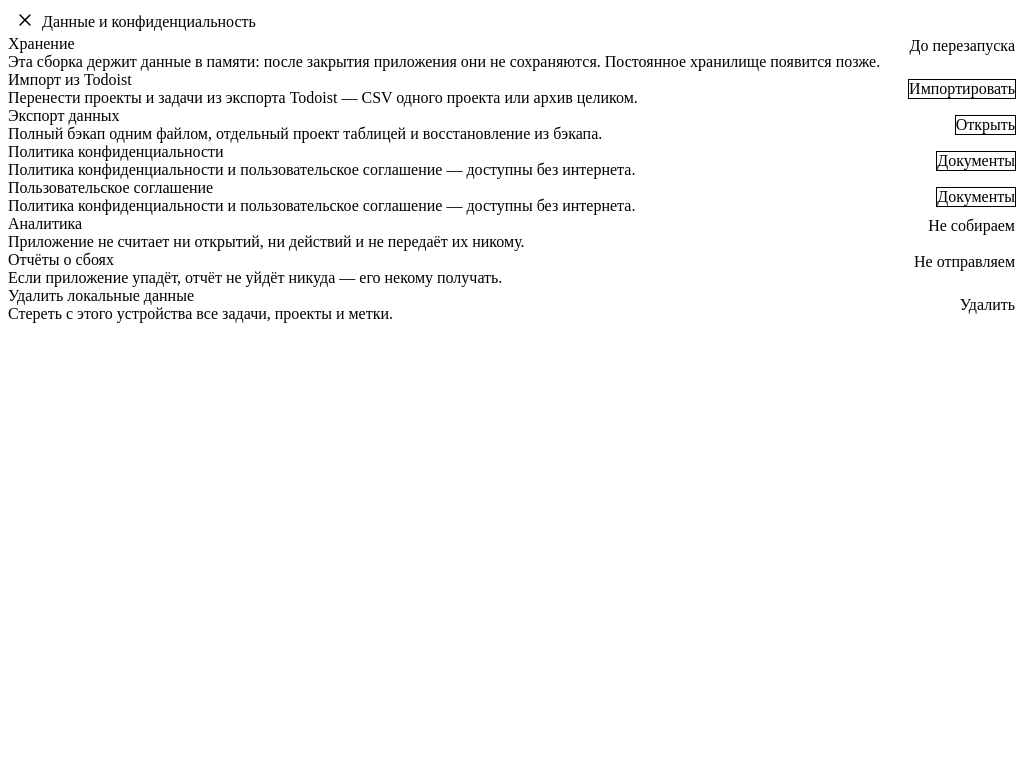
DataPrivacy (M51) › отмена в диалоге ничего не стирает
Click the button "Удалить" at [987, 305], box [959, 295, 1016, 315]
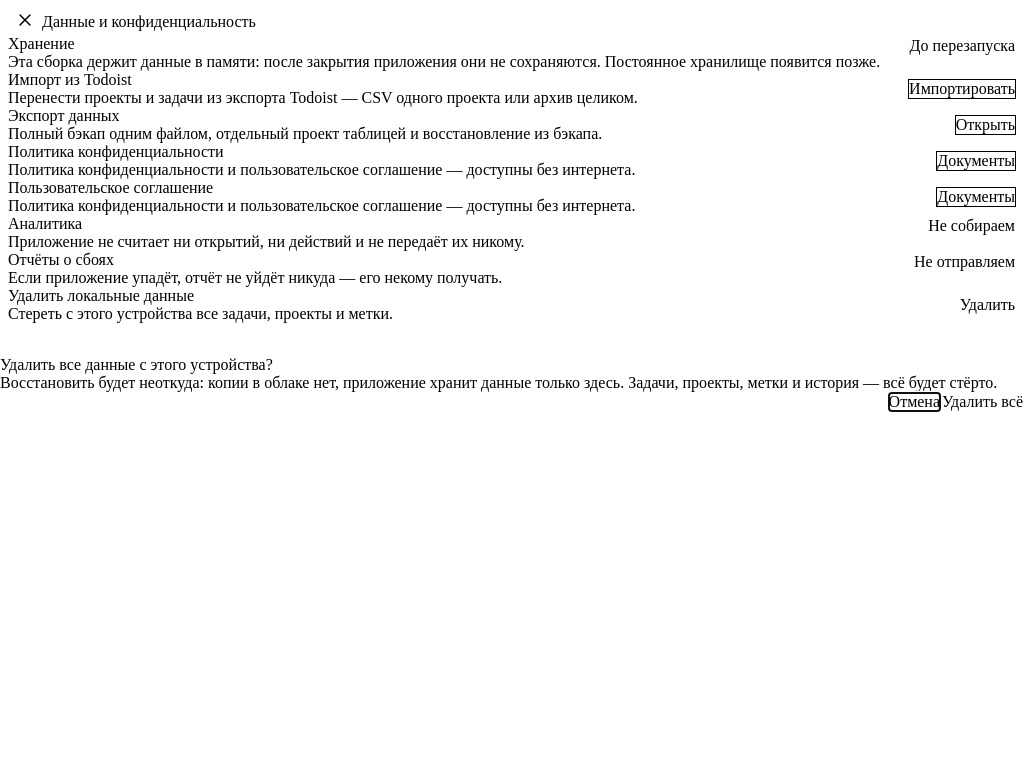
Click the button "Отмена" at [914, 402], box [888, 392, 941, 412]
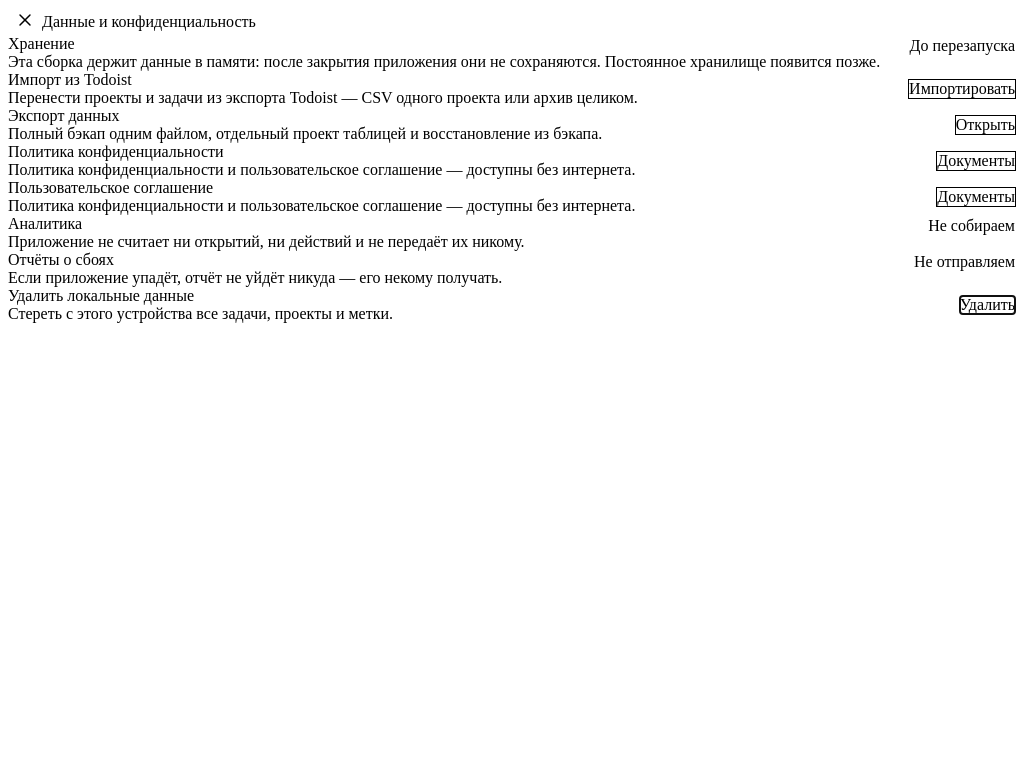
Now the dialog is gone
